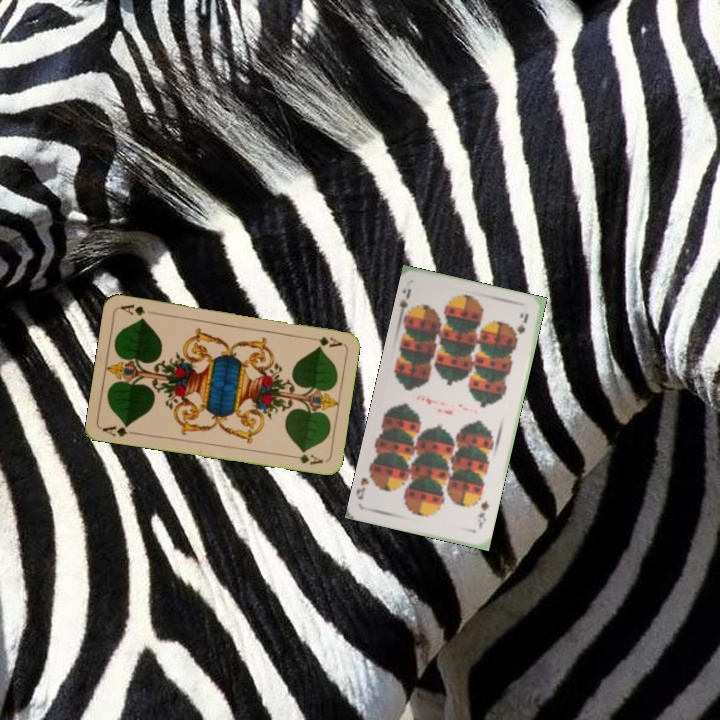GA: (99, 420, 140, 439), (315, 332, 344, 350)
S9: (394, 284, 414, 321), (473, 497, 491, 532)
